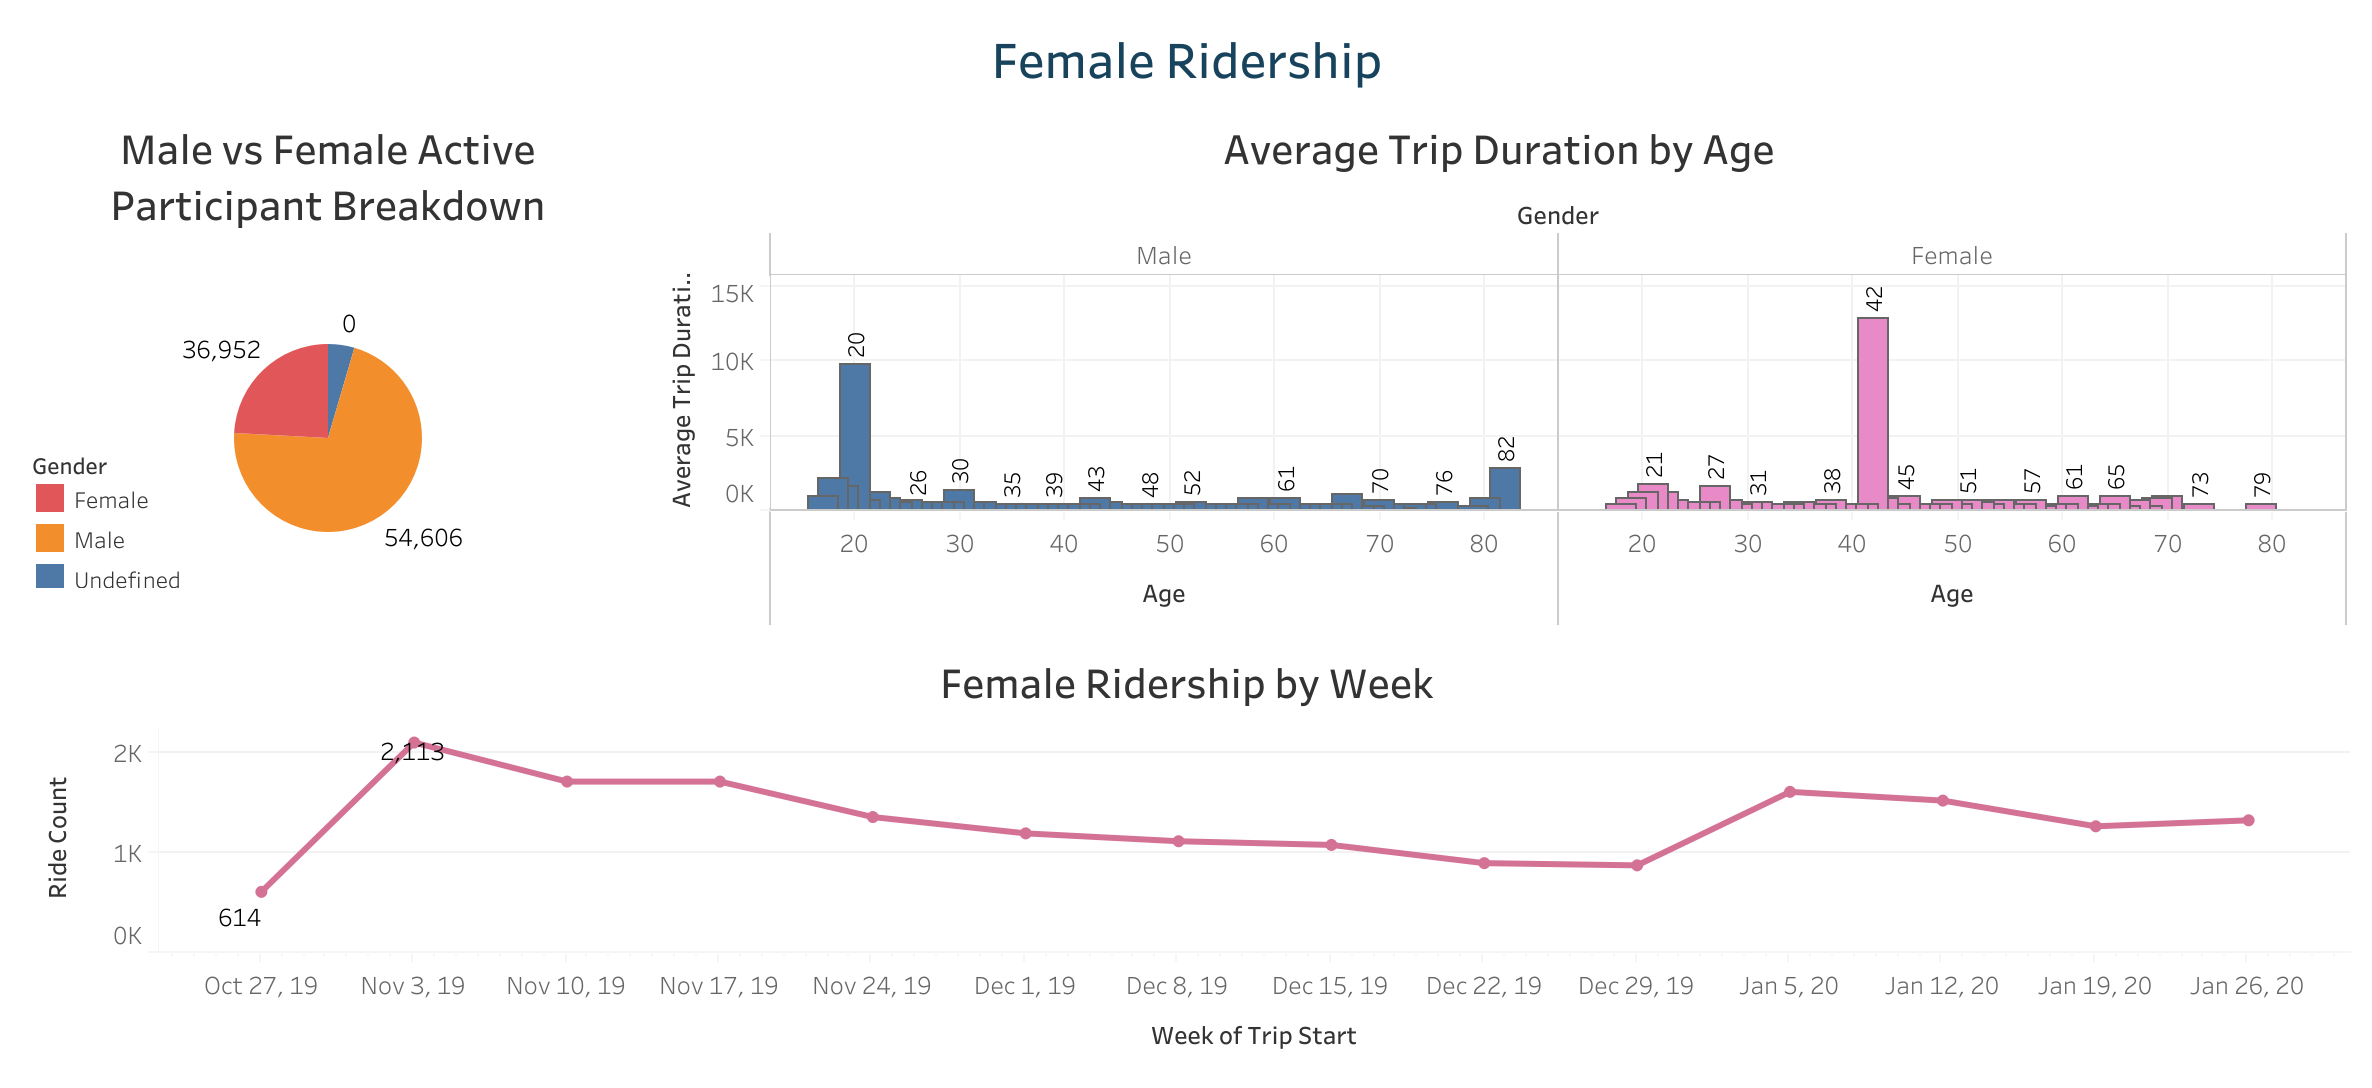

What the dashboard file says about the page in this screenshot:
{"tool":"tableau","page":{"name":"Female Ridership","canvas":[1000,1000],"units":"permille","ordinal":0},"visuals":[{"type":"title","box":[8.1,12.8,983.8,65.6]},{"type":"worksheet","title":"Male vs. Female Active Participant Breakdown","mark":"Pie","box":[8.1,78.4,262.5,498.4]},{"type":"worksheet","title":"Avg Trip Duration - Age & Gender","mark":"Bar","rows":["tripduration"],"cols":["gender","Calculation_6063252495944384516"],"box":[270.6,78.4,721.3,498.4]},{"type":"legend","title":"Male vs. Female Active Participant Breakdown","param":"[federated.0bl1ixe19uang21496f3y0pw2axb].[none:gender:ok]","box":[12.7,409.6,114.8,129.6]},{"type":"worksheet","title":"Female Ridership Increase","mark":"Automatic","rows":["Number of Records"],"cols":["starttime"],"box":[8.1,576.8,983.8,410.4]}]}

Visuals, with their boxes on the dashboard's canvas, which has no fixed pixel size, in thousandths of its width and height (x1, y1, x2, y2). These are canvas units, not pixel positions in the 2372x1088 screenshot, which may show the page scaled, cropped or inside an application window:
title: (8,13,992,78)
"Male vs. Female Active Participant Breakdown" worksheet (Pie marks): (8,78,271,577)
"Avg Trip Duration - Age & Gender" worksheet (Bar marks): (271,78,992,577)
"Male vs. Female Active Participant Breakdown" legend: (13,410,128,539)
"Female Ridership Increase" worksheet: (8,577,992,987)
